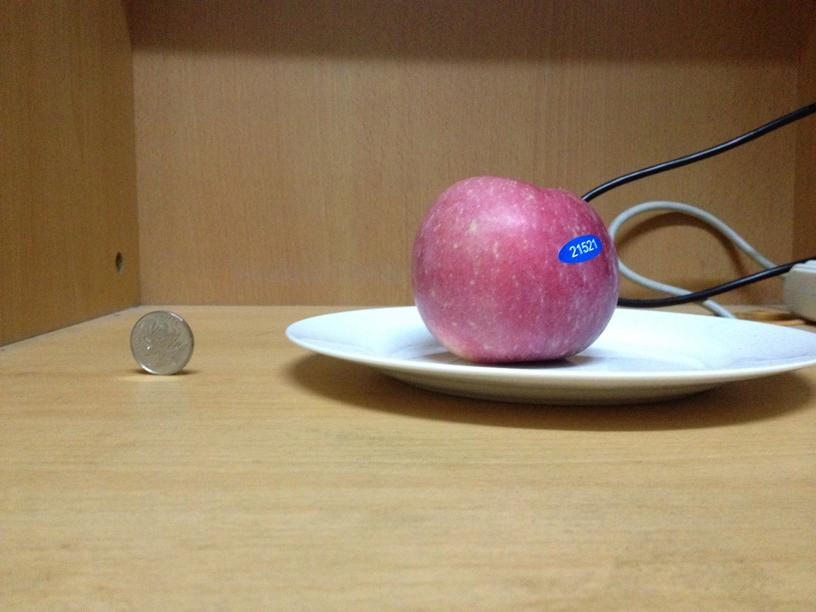apple: (410, 173, 620, 361)
coin: (127, 308, 191, 376)
